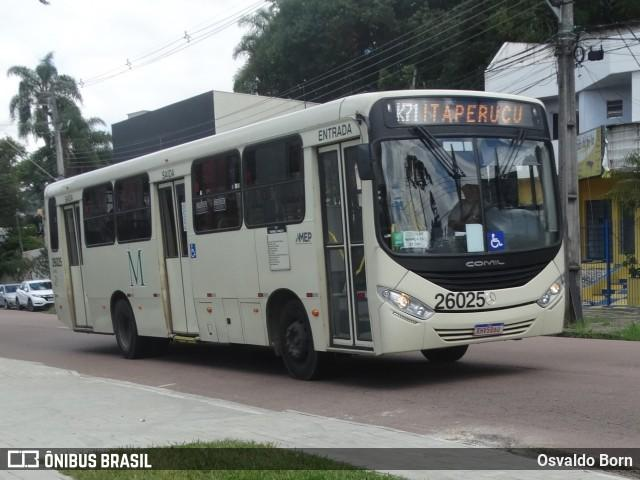ITAPERUCU: (418, 97, 527, 130)
